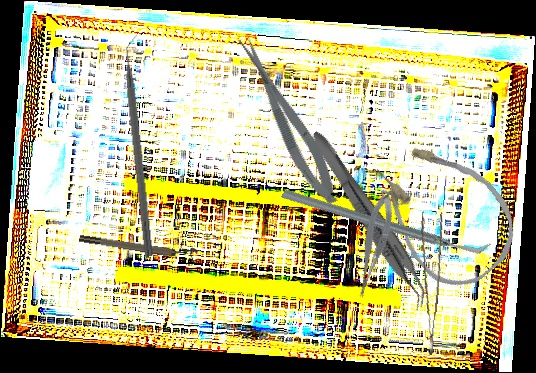Cannula: (355, 119, 534, 303)
Chopper: (280, 120, 492, 321), (120, 32, 166, 257)
Fixation Ring: (78, 227, 198, 265)
Micro Scissor: (232, 29, 346, 211), (343, 186, 404, 301)
Tissue Forceps: (299, 127, 440, 312), (405, 209, 450, 356)
